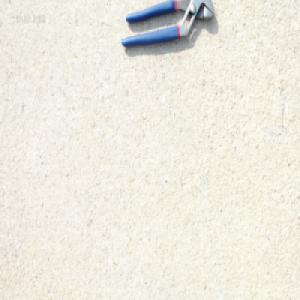Pliers: (120, 0, 214, 50)
